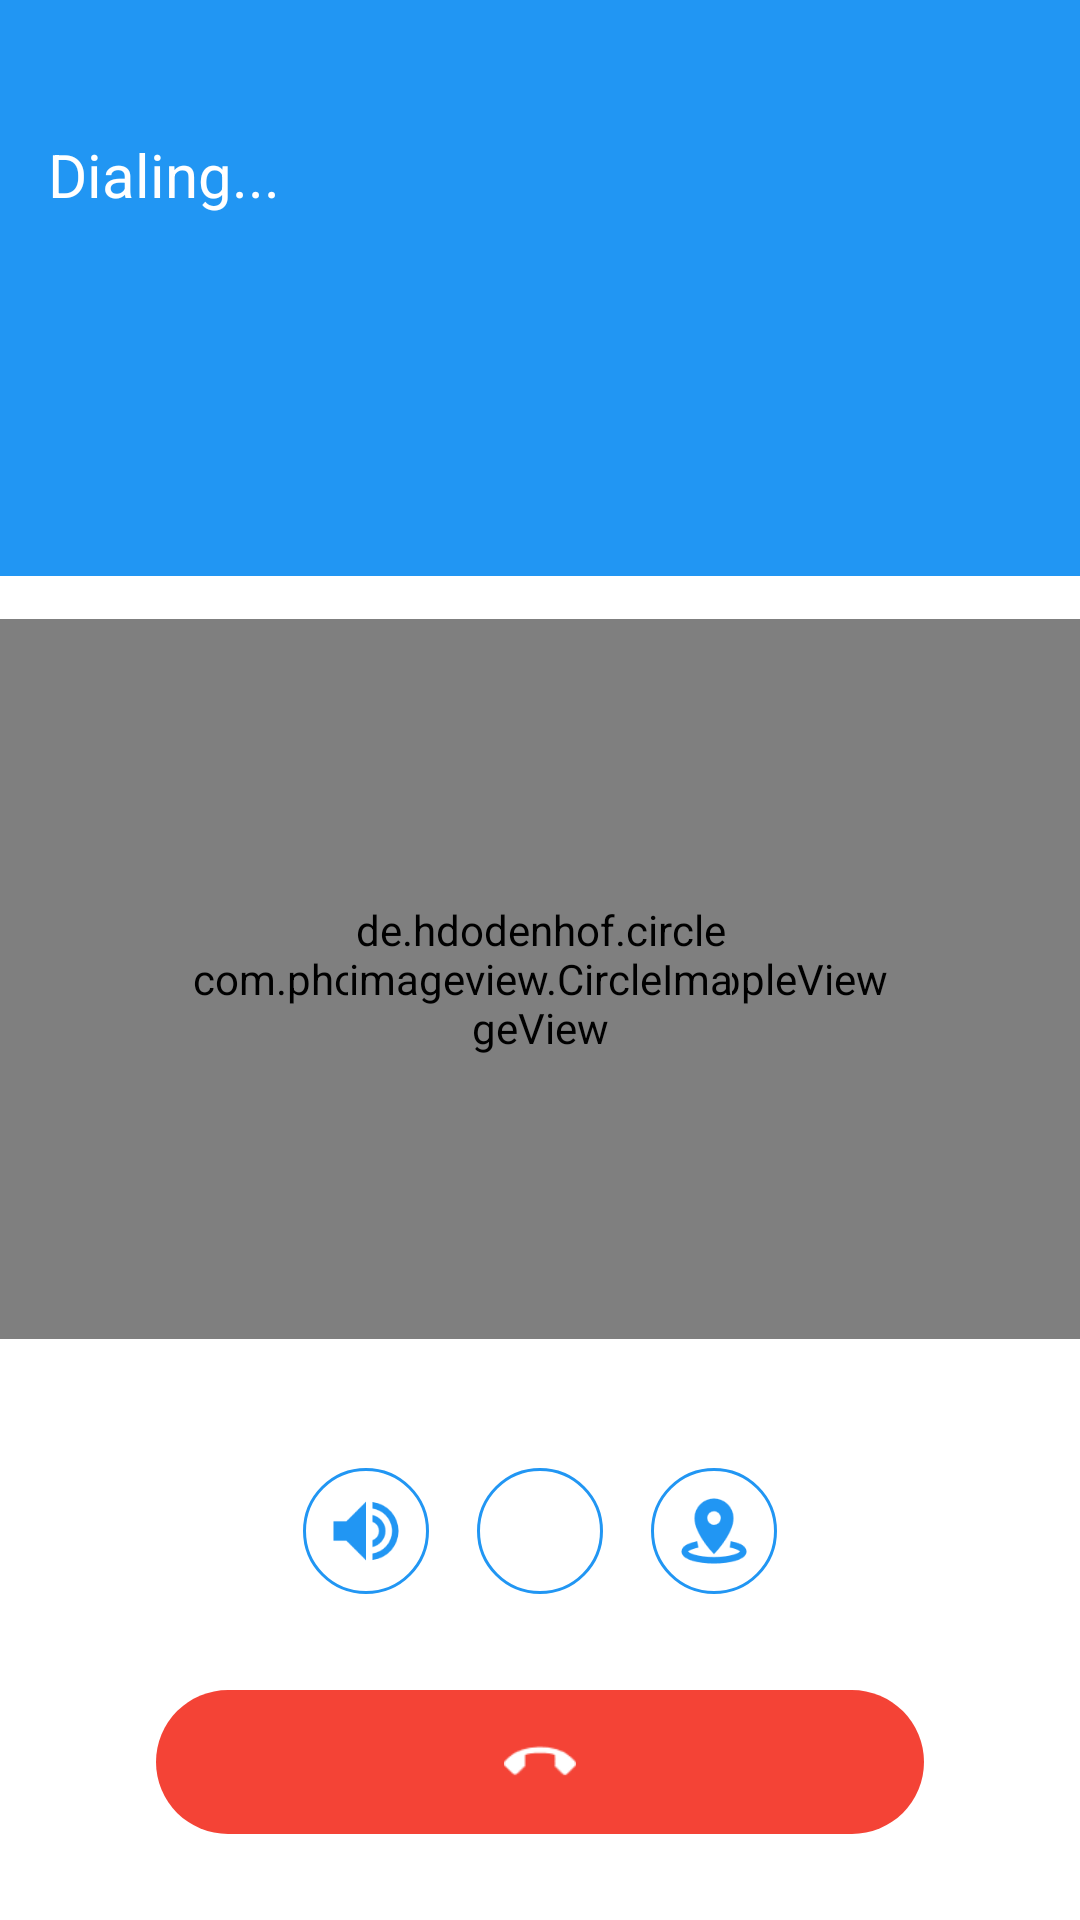

Where to tap for icons on this 1080×1920 app screen, as [x,y]:
call map: [714,1531]
